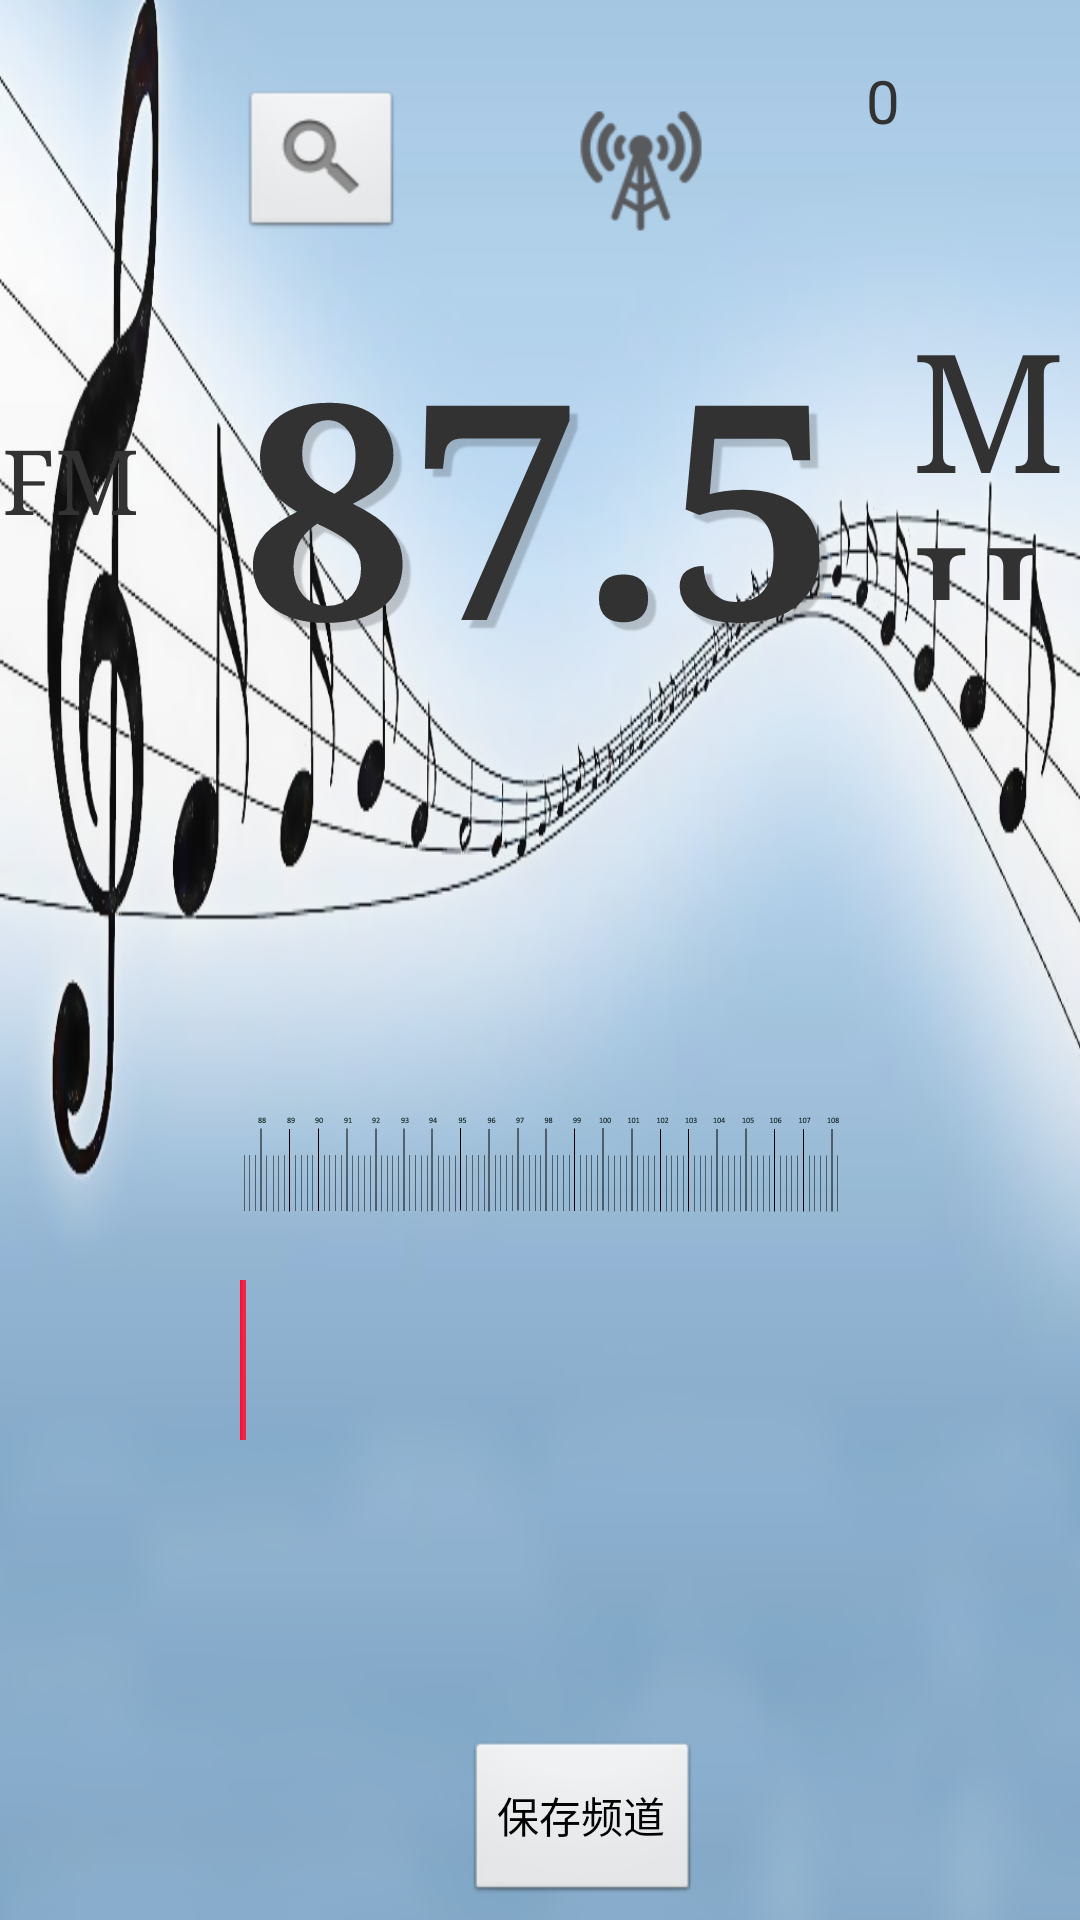

Where icons sit on this 1080*1920 app screen, as bbox(x1, y1, x2, y2):
auto search: bbox(249, 93, 393, 226)
signal: bbox(580, 111, 702, 231)
